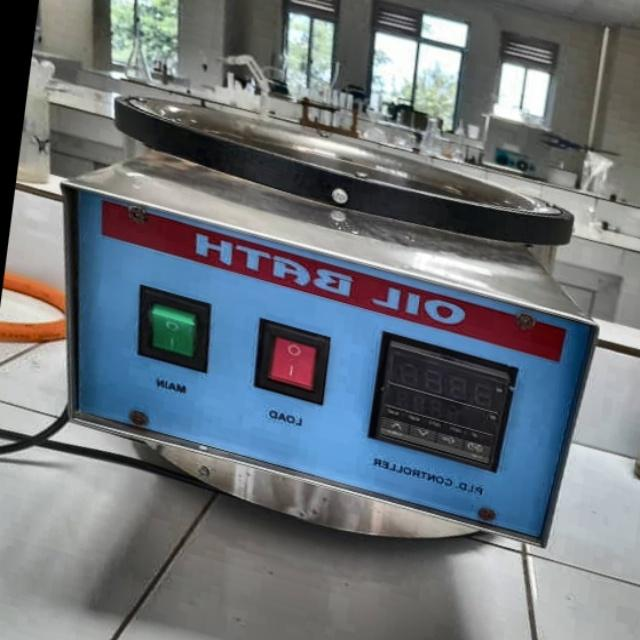Water-Oil Bath: (14, 49, 636, 595)
